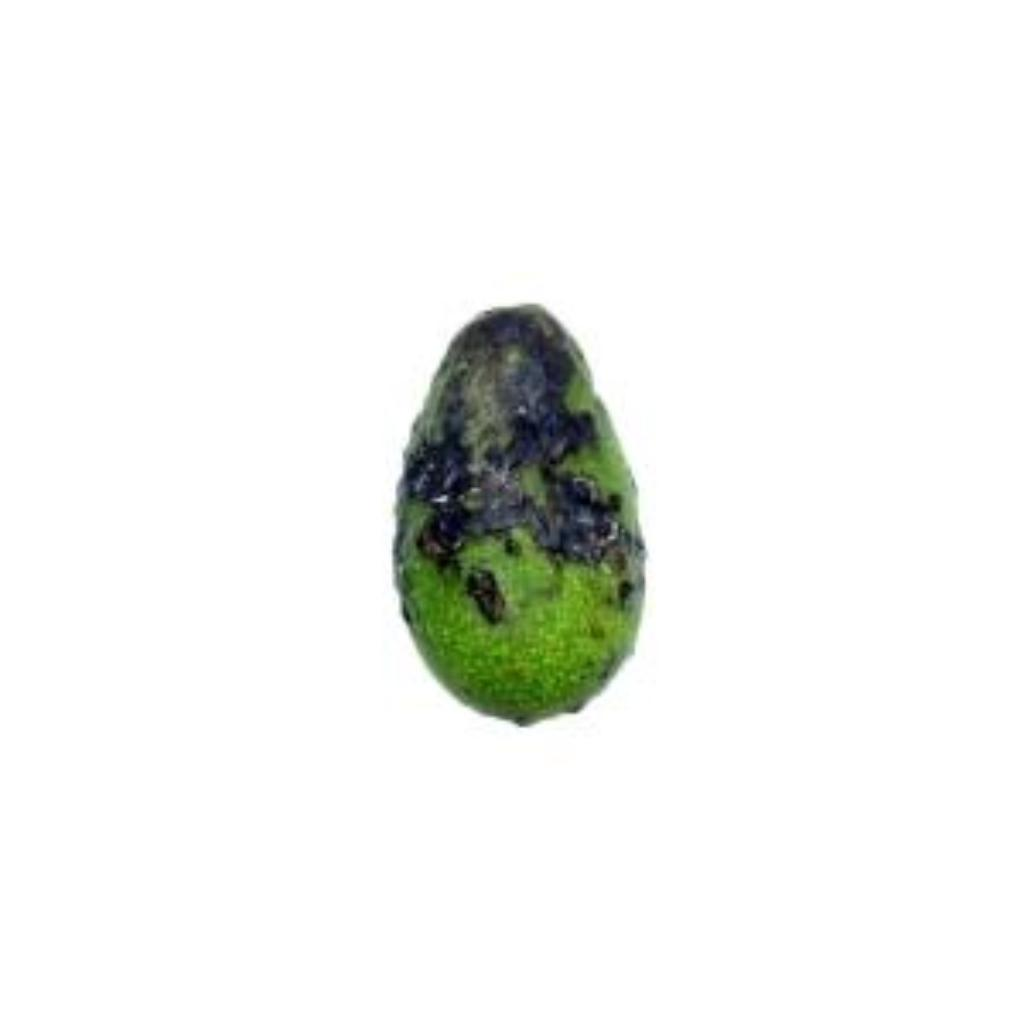cercospora: (356, 300, 678, 744)
